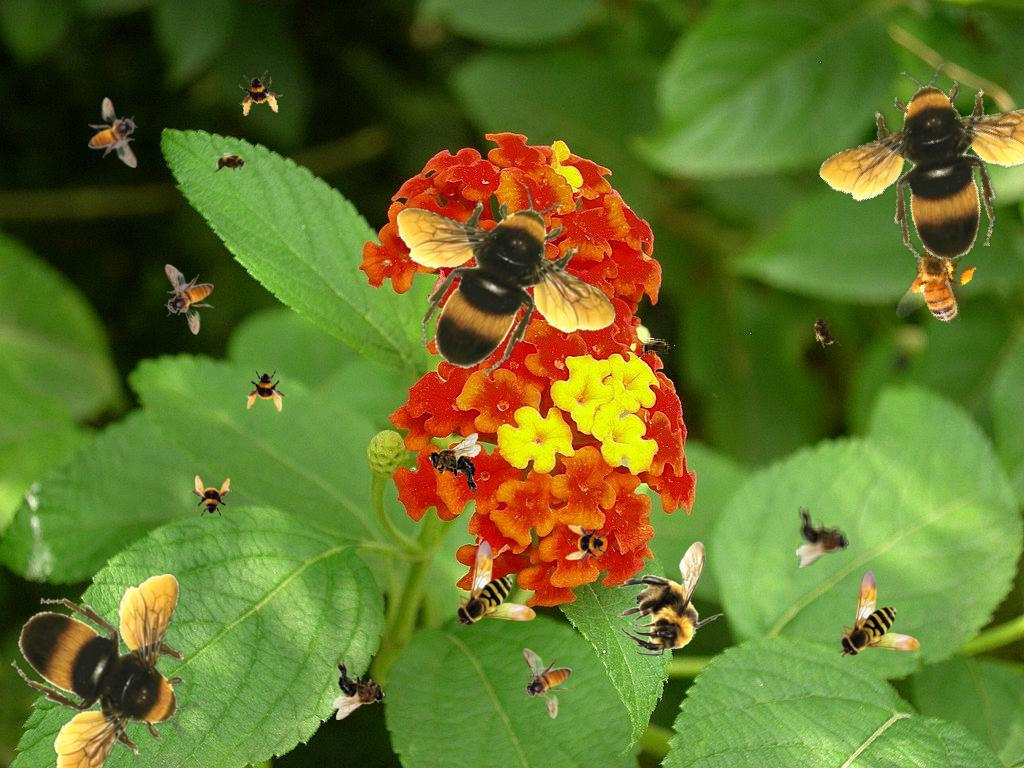Bee: (800, 15, 1024, 302), (397, 185, 617, 376), (11, 574, 202, 768), (617, 541, 724, 656), (889, 227, 987, 340), (838, 570, 920, 658), (454, 540, 536, 628), (164, 264, 214, 335), (522, 648, 572, 719), (88, 97, 138, 168), (428, 433, 481, 495), (333, 658, 386, 720), (796, 506, 849, 568), (234, 68, 286, 120), (565, 523, 609, 567), (188, 475, 232, 519), (245, 368, 289, 412), (806, 308, 842, 354), (636, 337, 676, 359), (211, 152, 251, 174)
